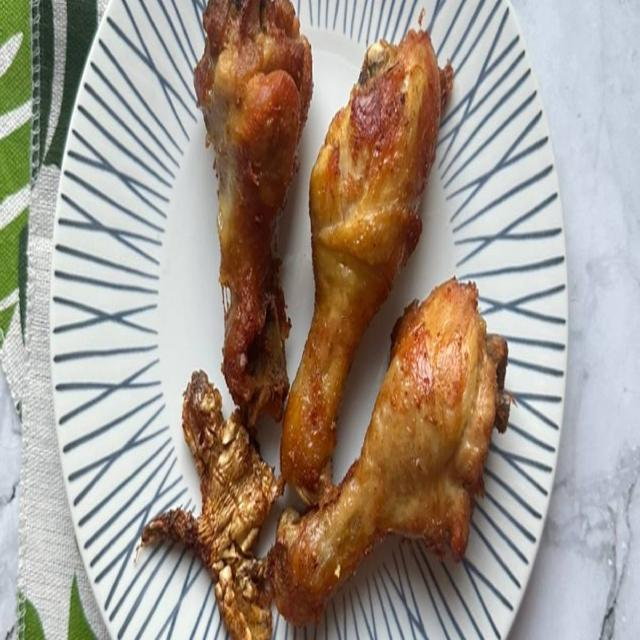ayam_goreng: (156, 16, 530, 614)
